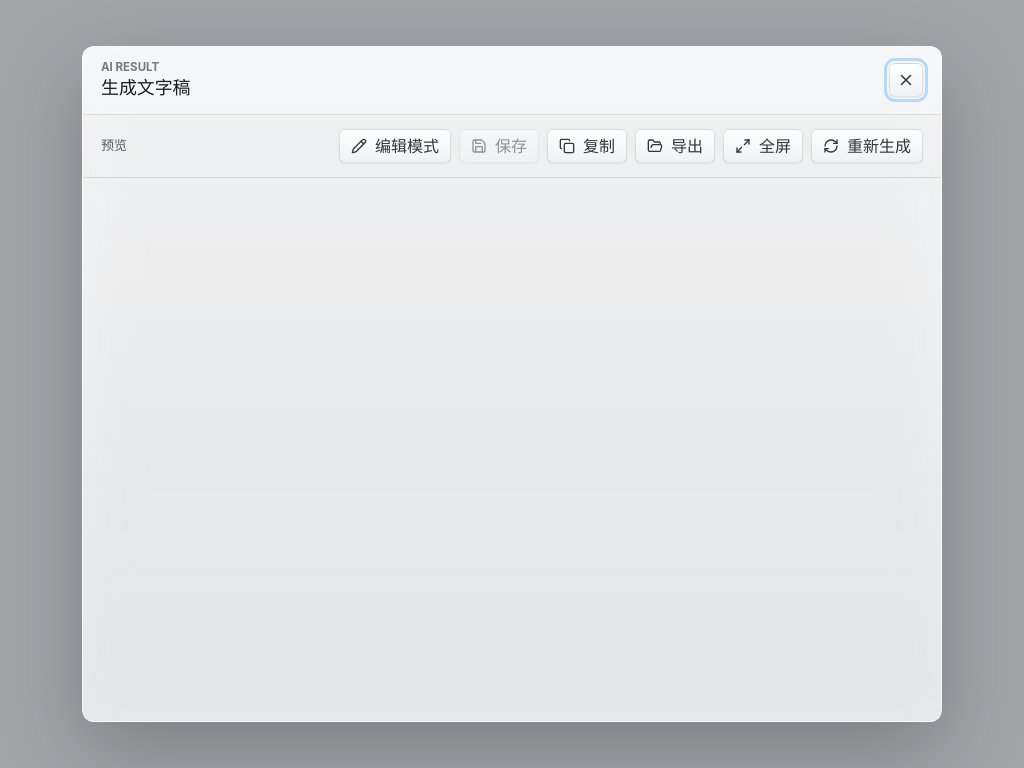
Test: DraftResultSheet › dirty state allows clicking export but shows save-first notice
The width and height of the screenshot is (1024, 768).
Click the button "编辑模式" at (395, 146), box [339,129,451,163]
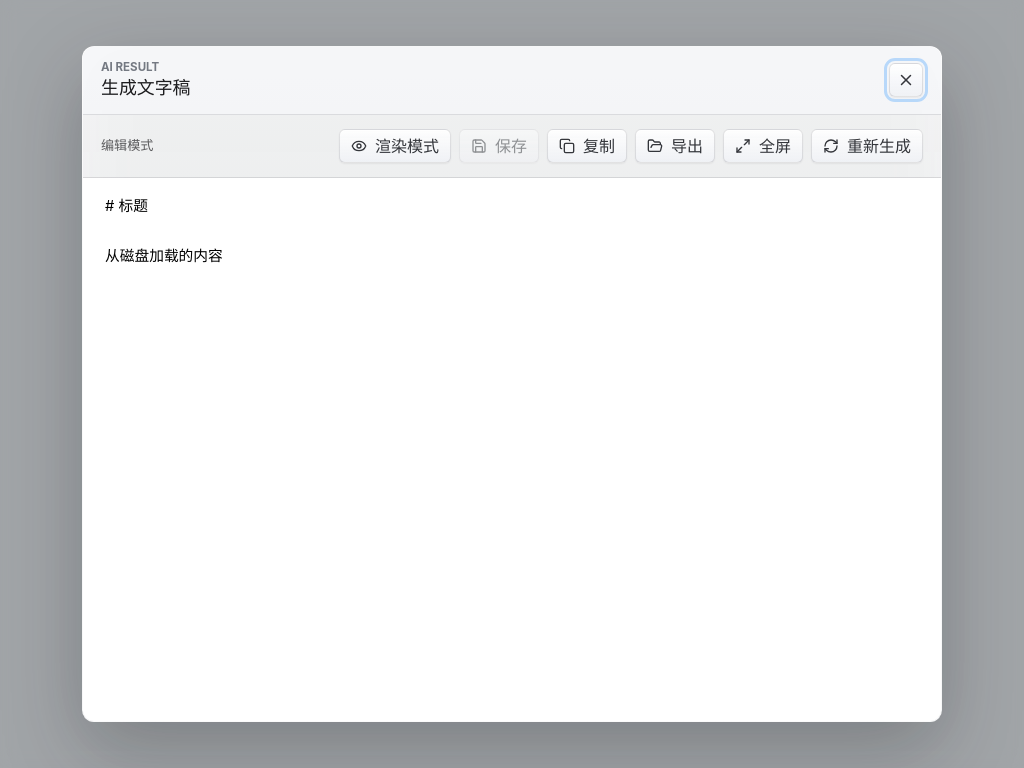
Replace the text in the text box with "dirty" at (512, 449), box [83,178,941,721]
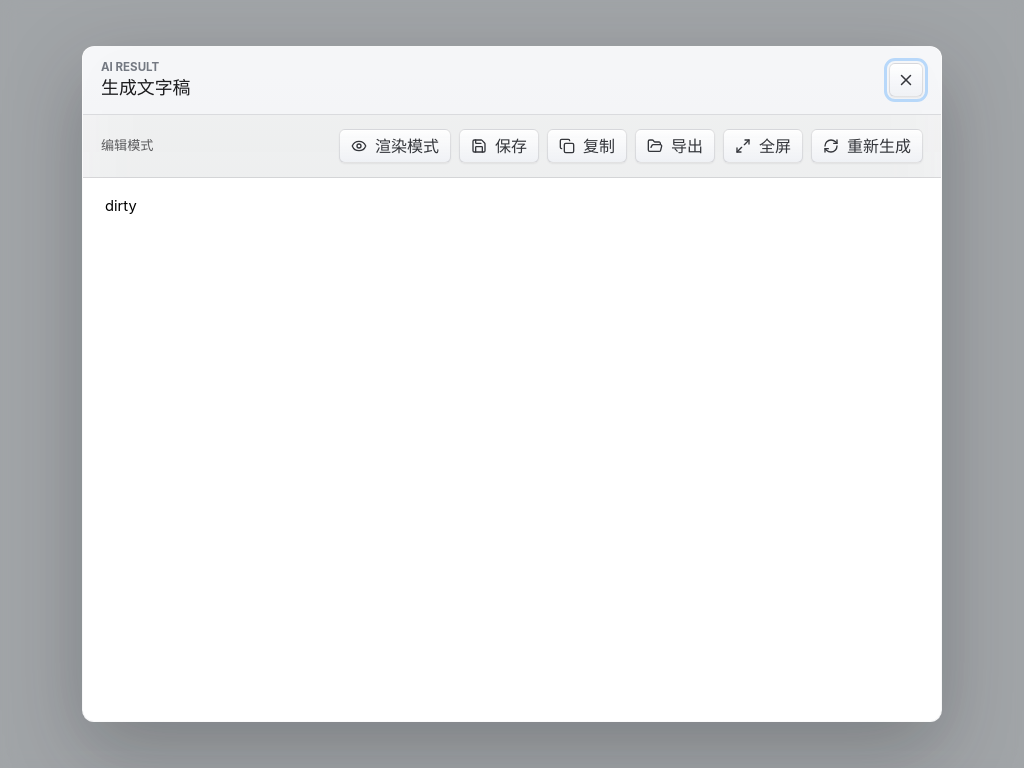
Click the button "导出" at (675, 146), box [635,129,715,163]
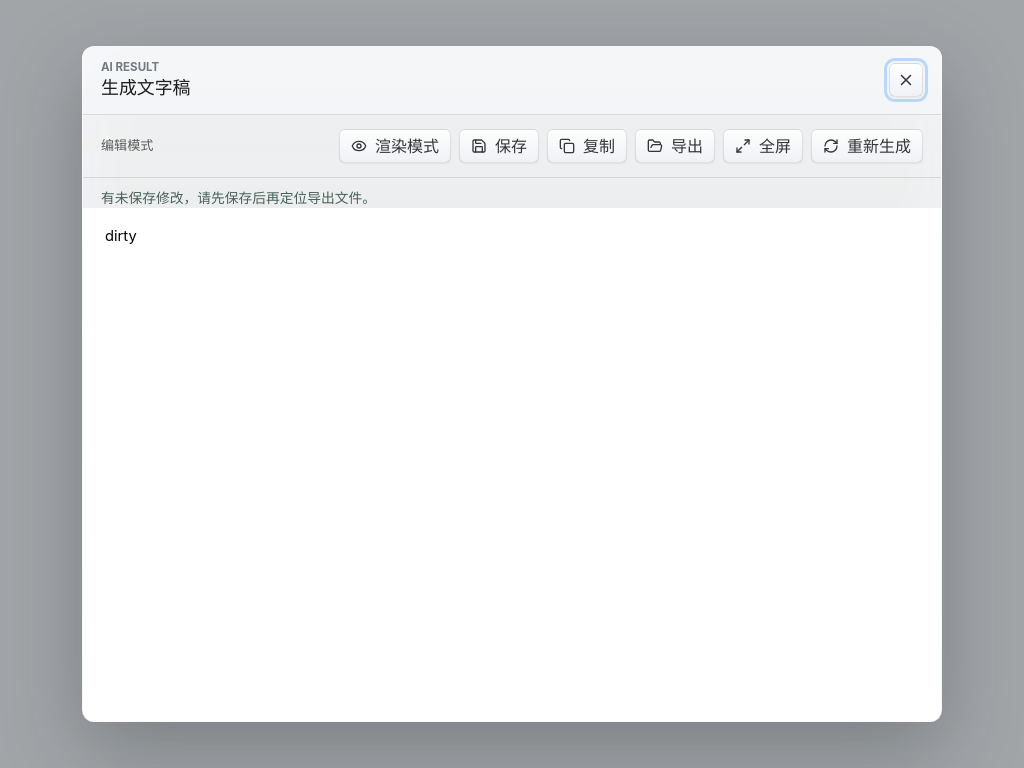
expect the message with class "action-notice" shows "有未保存修改，请先保存后再定位导出文件": met, box [101,190,376,206]
